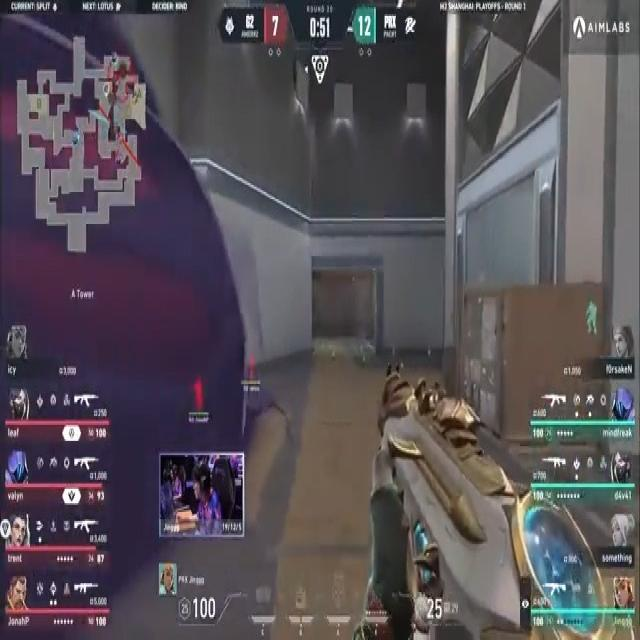smoke: (0, 20, 246, 540)
